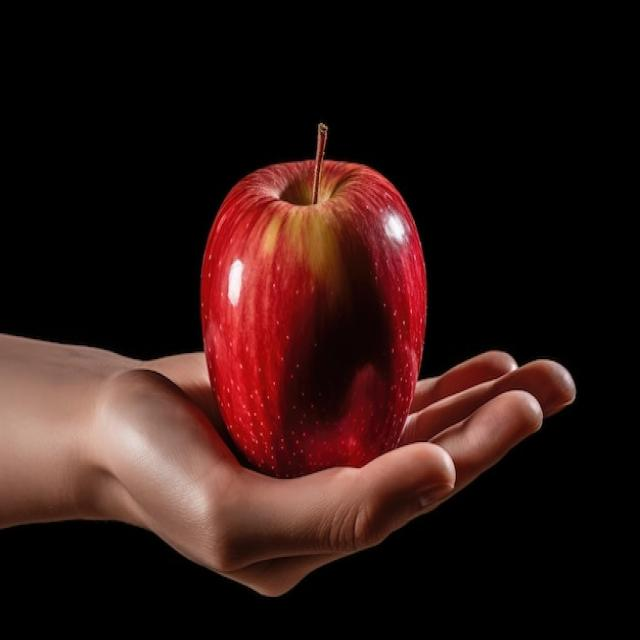apple_fruit: (184, 127, 447, 500)
